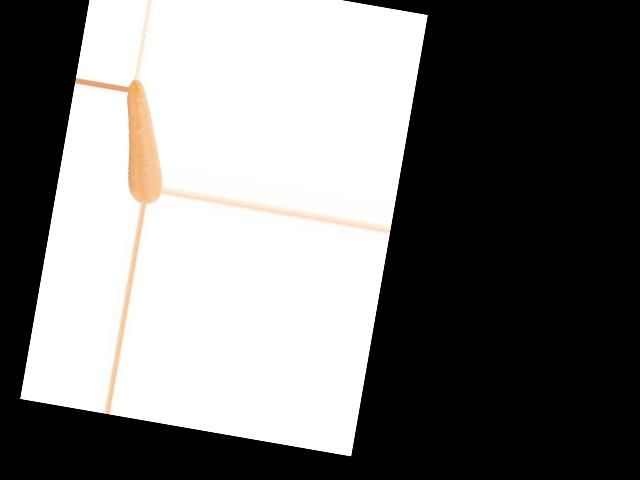carrot: (109, 80, 178, 206)
